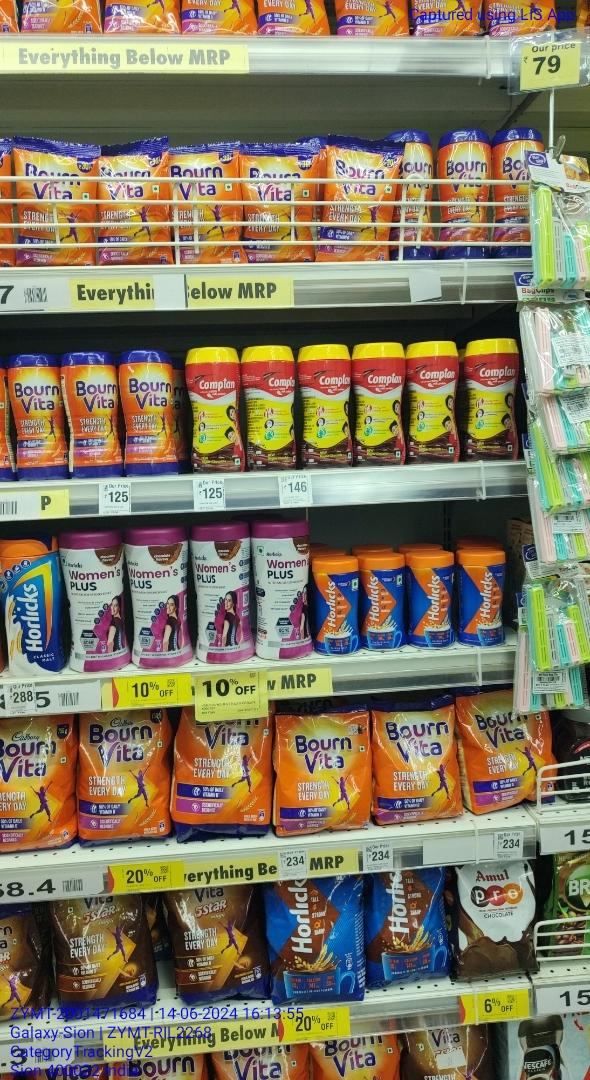BOURN_VITA_1_KG_JAR: (438, 129, 489, 259), (492, 127, 530, 257)
BOURN_VITA_500_G_JAR: (120, 349, 176, 476), (12, 354, 62, 480), (66, 352, 116, 477)
BOURN_VITA_500_G_POUCH: (275, 705, 368, 834), (373, 700, 462, 823), (468, 690, 555, 811)
BOURN_VITA_750_G_POUCH: (167, 712, 272, 838), (78, 713, 168, 846), (15, 136, 94, 265), (0, 716, 74, 849), (322, 138, 393, 261), (242, 142, 314, 263), (98, 141, 169, 263), (169, 146, 240, 264)
BOURN_VITA_FIVE_STAR_MAGIC_500_G_POUCH: (53, 900, 157, 1016), (169, 888, 264, 1004)
COMPLAN_CHOCOLATE_200_GMS_JAR: (246, 344, 297, 470), (190, 348, 241, 473), (300, 345, 352, 467), (465, 337, 516, 461), (354, 342, 405, 463), (409, 341, 459, 464)
HORLICK_CLASSIC_MALT_200_G_JAR: (314, 557, 361, 655), (461, 549, 505, 649), (411, 553, 454, 649), (365, 557, 402, 650)
